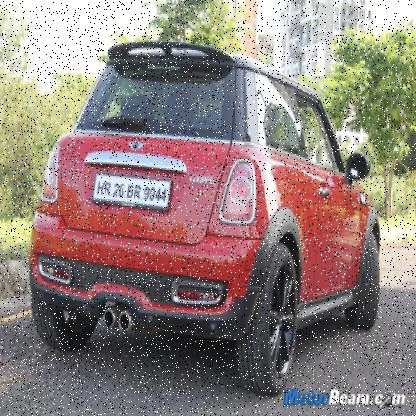licence: (93, 172, 168, 208)
